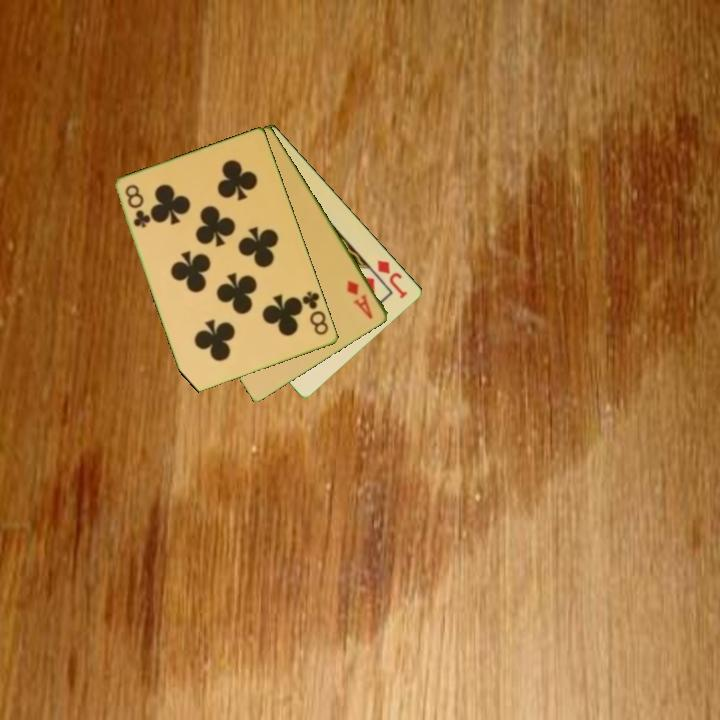8c: (299, 288, 332, 338), (122, 181, 153, 231)
Ad: (343, 276, 376, 323)
Jd: (374, 256, 411, 302)
